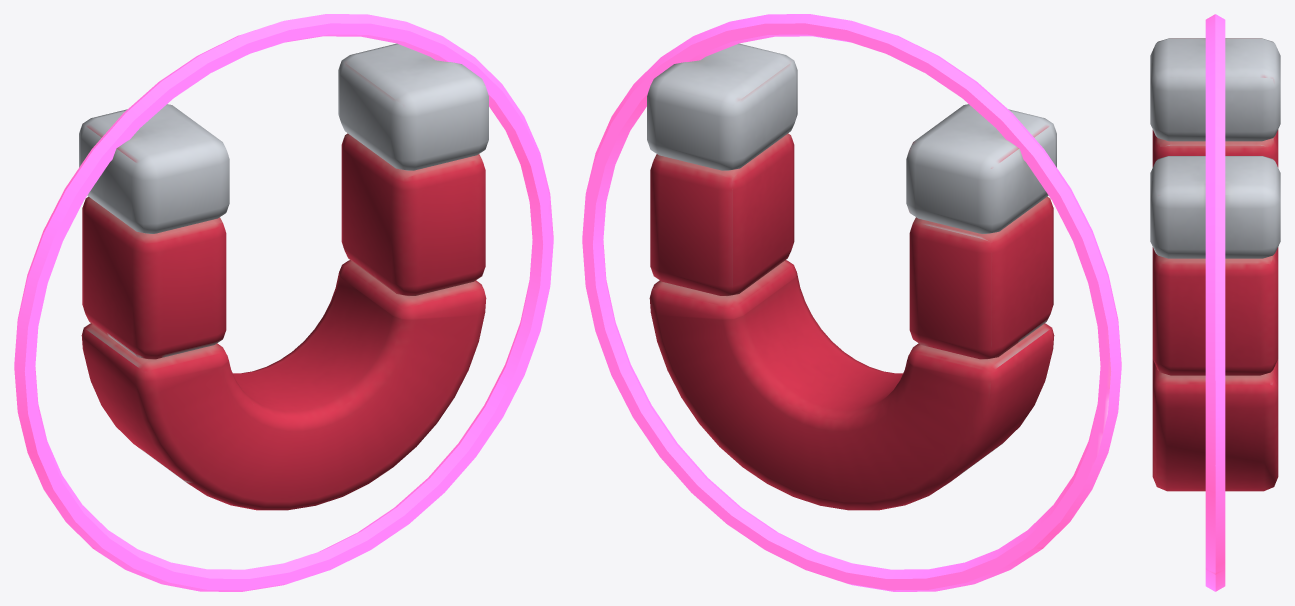
File: rc_powerup_magnet.glb
The picture shows the model from 3 angles, left to right: view 1: azimuth 30°, elevation 25°; view 2: azimuth 150°, elevation 25°; view 3: azimuth 270°, elevation 25°; orthographic projection. The views are drawn at different scales.
Parts seen in each view (by area): view 1: rc_powerup_magnet; view 2: rc_powerup_magnet; view 3: rc_powerup_magnet.
Part boxes in pixels (x1,y1,x2,y2): rc_powerup_magnet: [14, 14, 553, 591]; rc_powerup_magnet: [582, 14, 1121, 591]; rc_powerup_magnet: [1150, 14, 1280, 591].
Bounding box in the file's own units: 1.29 × 1.29 × 0.29.
3 materials, 3 textured.
